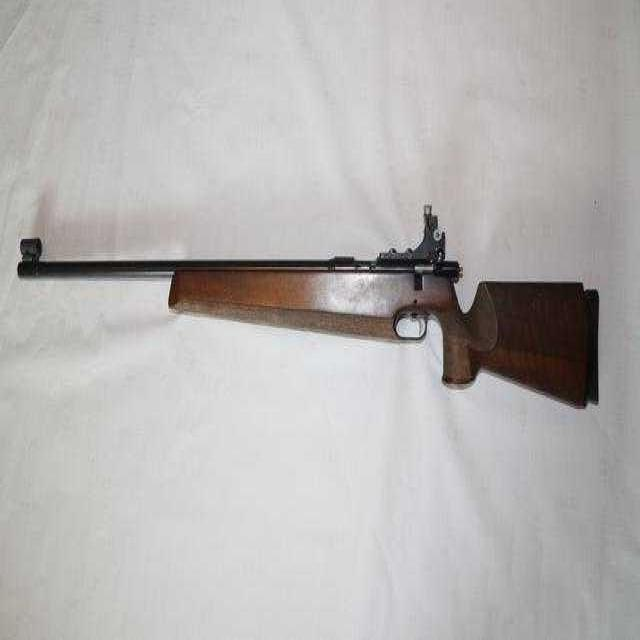heavyweapon: (2, 188, 614, 466)
